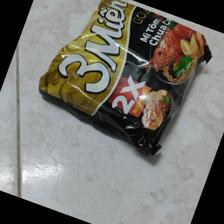3mien: (39, 1, 213, 156)
